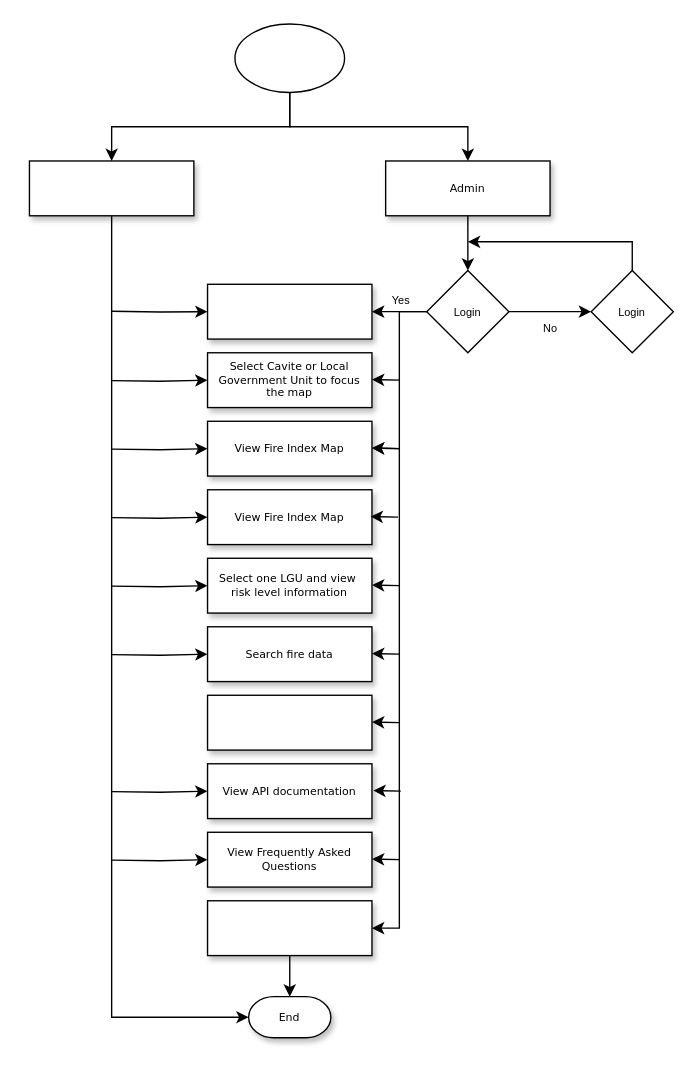
The diagram is 697 pixels wide and 1071 high, and some of its shapes have lost their labels. Each missing label, with the centre of its shape:
"Logout" goes at point (290, 929).
"Request fire data manually" goes at point (290, 724).
"Start" goes at point (289, 57).
"User" goes at point (112, 189).
"View current fire incident/s information" goes at point (290, 313).
